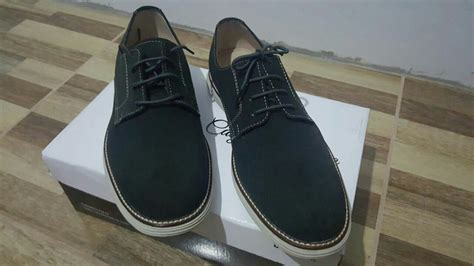gamuza: (106, 5, 349, 246)
